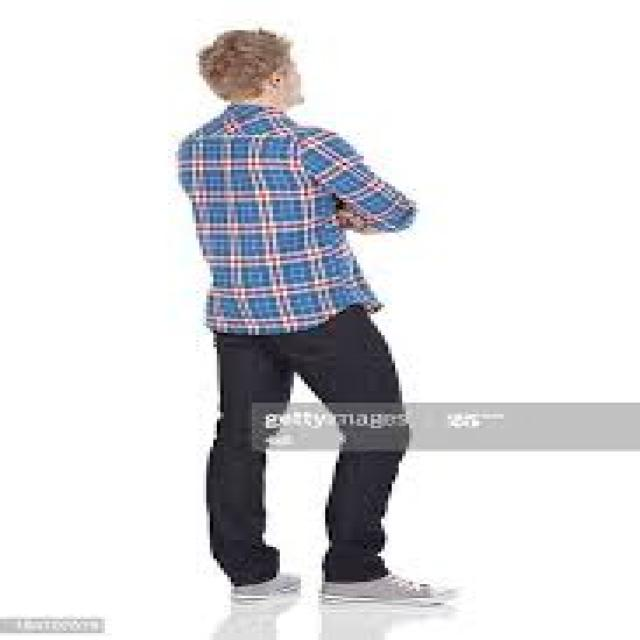adult: (119, 14, 504, 624)
